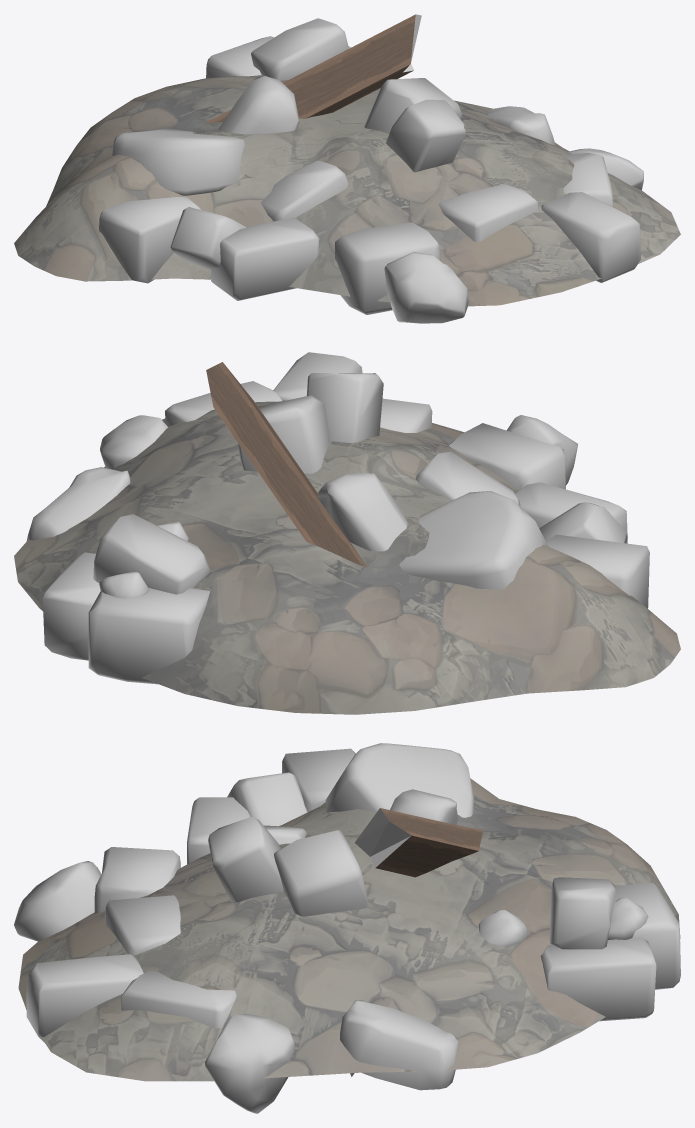
The model's file is SM_Ruins_03.fbx.
3 renders of one model, top to bottom at view 1: azimuth 30°, elevation 25°; view 2: azimuth 150°, elevation 25°; view 3: azimuth 270°, elevation 25°, orthographic. The views are drawn at different scales.
Visible parts, largest first — view 1: SM_Ruins_03_LOD0; view 2: SM_Ruins_03_LOD0; view 3: SM_Ruins_03_LOD0.
Boxes of the visible parts, x1,y1,x2,y2 form: SM_Ruins_03_LOD0: (14,14,680,323); SM_Ruins_03_LOD0: (14,352,680,714); SM_Ruins_03_LOD0: (14,743,680,1113).
Size of the model in its own units: 487 by 448 by 168.
4 materials, 2 textured.
